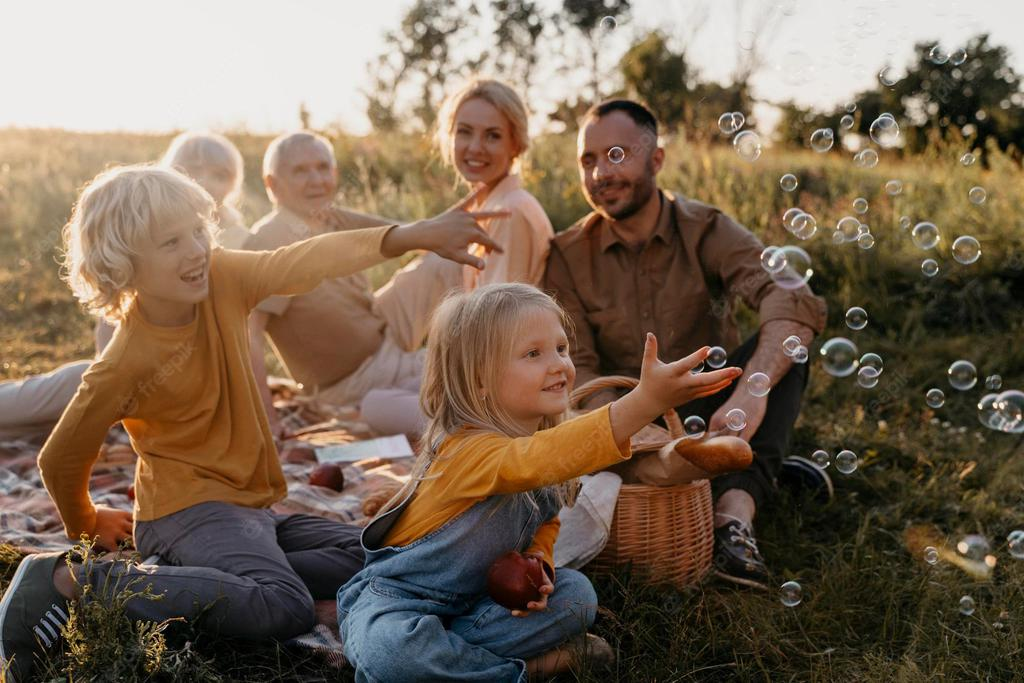child: (338, 284, 700, 680)
